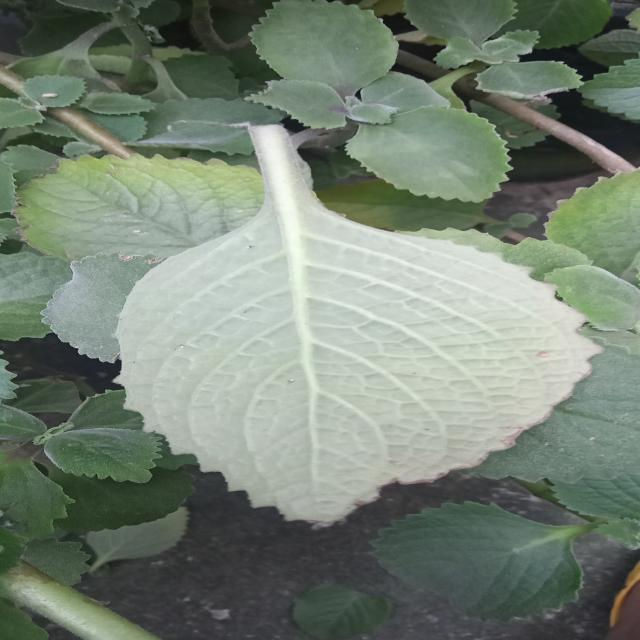Oregano: (49, 154, 630, 541)
